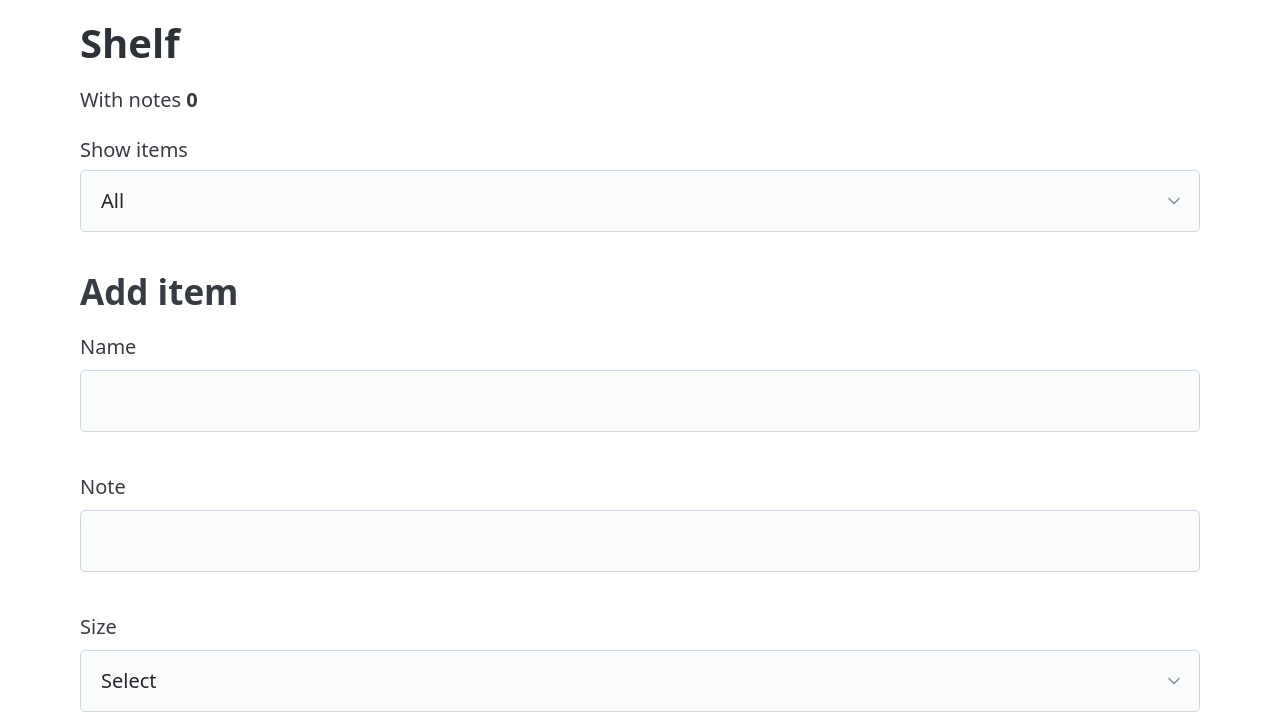
Test: journey helpers › reports required-field validation
Type "no name" into the field labelled "Note" at (640, 541), box [80, 510, 1200, 572]
(page scrolled)
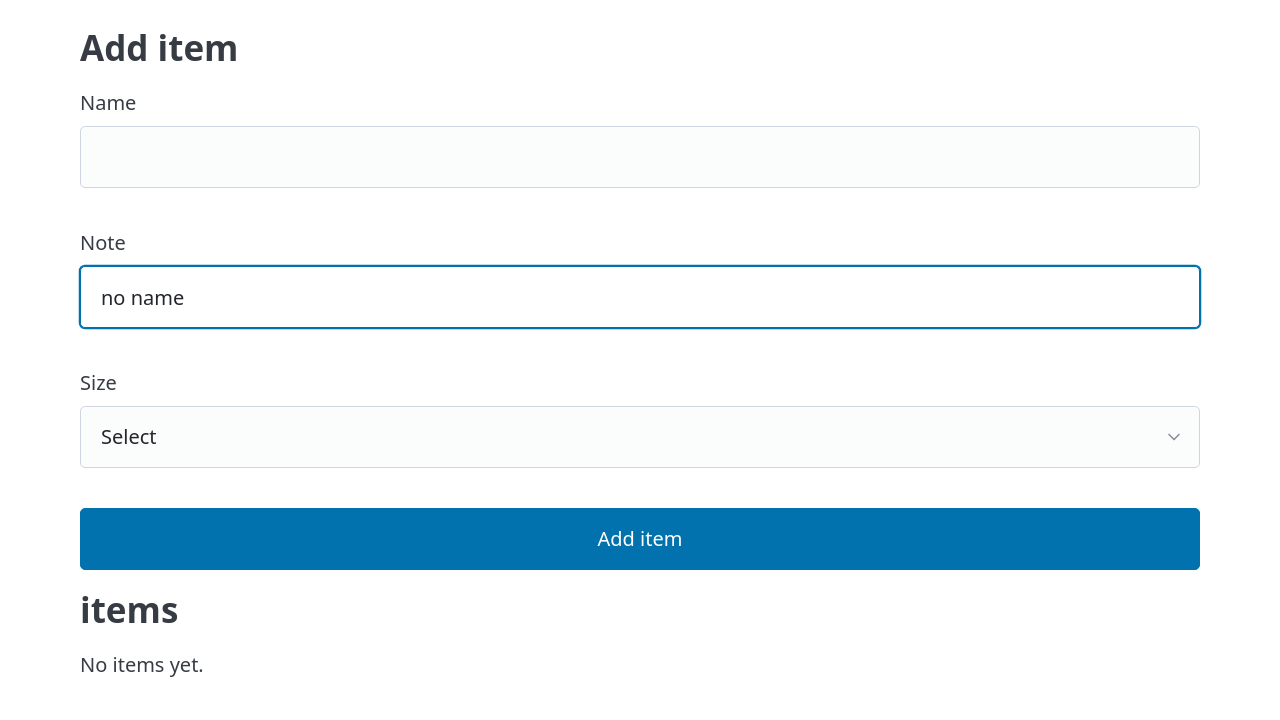
Click the button "Add item" at (640, 539), box [80, 508, 1200, 570]
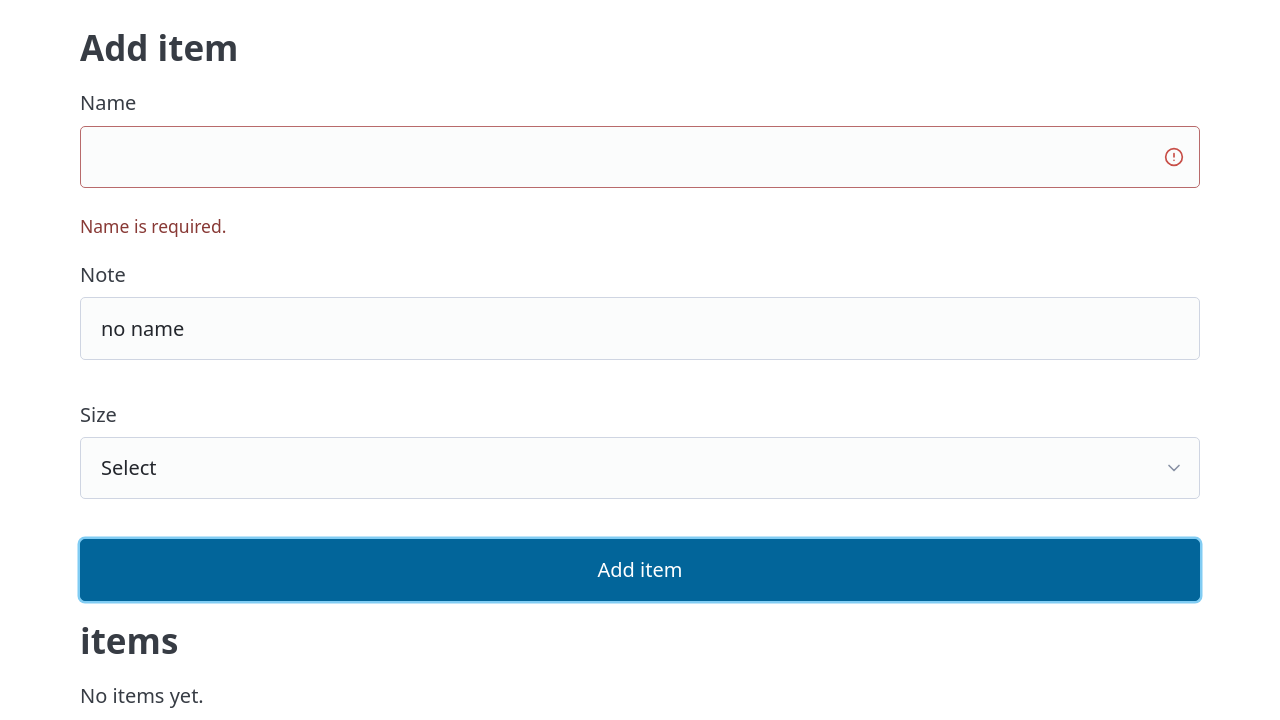
Check: the text "Name is required." is shown, box [80, 214, 226, 238]
